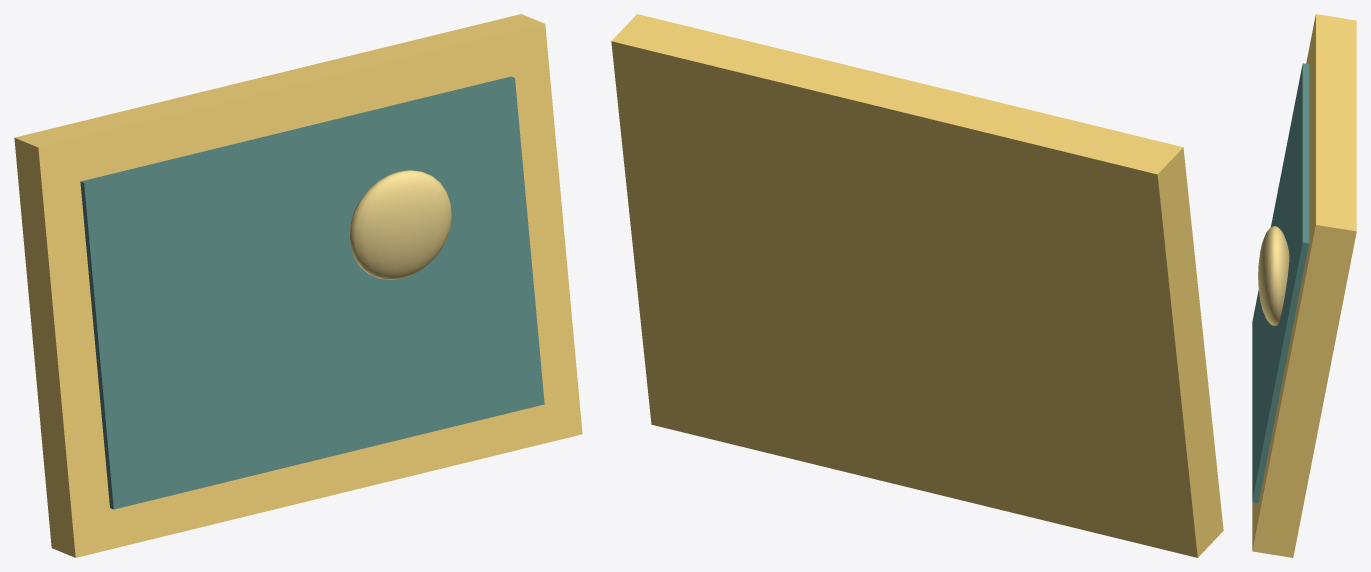
Rendered from painting.glb.
3 renders of one model, left to right at view 1: azimuth 30°, elevation 25°; view 2: azimuth 150°, elevation 25°; view 3: azimuth 270°, elevation 25°, orthographic. The views are drawn at different scales.
Parts seen in each view (by area): view 1: painting.glb; view 2: painting.glb; view 3: painting.glb.
Boxes of the visible parts, x1,y1,x2,y2 form: painting.glb: [14, 14, 582, 557]; painting.glb: [611, 14, 1223, 557]; painting.glb: [1252, 14, 1356, 557].
Size of the model in its own units: 0.3 by 0.221 by 0.0629.
